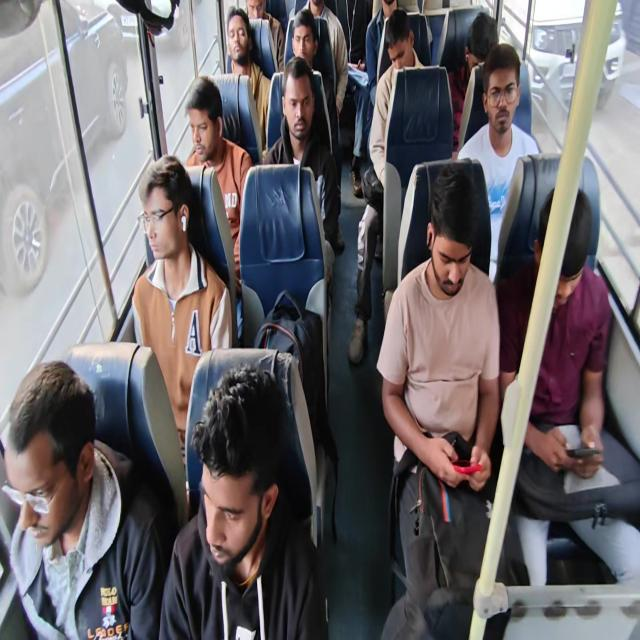person: (376, 165, 502, 638), (496, 185, 639, 589), (158, 363, 328, 639), (2, 359, 165, 639), (132, 154, 234, 489), (348, 9, 426, 364), (456, 42, 541, 282), (262, 56, 342, 301), (184, 75, 253, 343), (285, 8, 343, 220), (350, 0, 398, 197), (448, 11, 498, 150), (224, 6, 272, 149), (294, 0, 348, 116), (365, 0, 398, 109), (327, 0, 373, 69), (244, 0, 284, 72)
